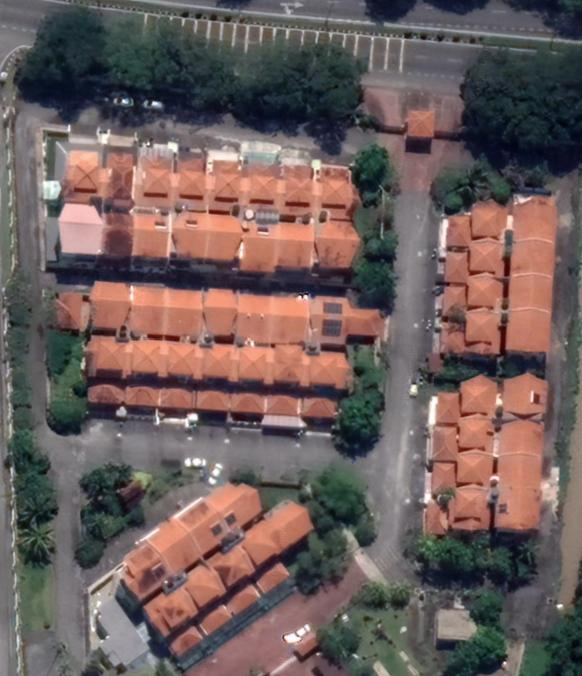building: (135, 578, 209, 662), (179, 558, 237, 639), (306, 292, 388, 348), (209, 539, 266, 617), (109, 538, 177, 602), (239, 521, 294, 597), (171, 492, 236, 555), (424, 482, 492, 538), (301, 348, 353, 421), (144, 514, 205, 576), (436, 305, 504, 358), (427, 412, 499, 461), (430, 446, 497, 498), (444, 197, 511, 249), (80, 332, 127, 406), (435, 371, 500, 424), (155, 338, 201, 411), (439, 269, 506, 319), (263, 346, 308, 420), (260, 497, 317, 555), (205, 478, 264, 534), (441, 235, 506, 285), (123, 335, 165, 408), (227, 345, 270, 416), (194, 342, 237, 413), (55, 205, 106, 259), (492, 482, 545, 532), (59, 147, 104, 205), (503, 305, 555, 355), (236, 219, 281, 276), (317, 221, 364, 274), (500, 370, 551, 416), (510, 194, 561, 239), (139, 151, 176, 213), (318, 162, 355, 224), (87, 277, 127, 333), (281, 161, 318, 221), (162, 283, 202, 338), (244, 161, 282, 218), (267, 295, 310, 345), (278, 220, 318, 273), (135, 210, 175, 262), (104, 148, 139, 207), (126, 281, 162, 338), (505, 270, 559, 308), (211, 157, 244, 218), (231, 291, 268, 345), (176, 155, 209, 215), (508, 235, 558, 273), (174, 215, 212, 264), (496, 417, 546, 454), (201, 284, 234, 338), (104, 209, 138, 261), (211, 216, 245, 267), (496, 449, 545, 484)
